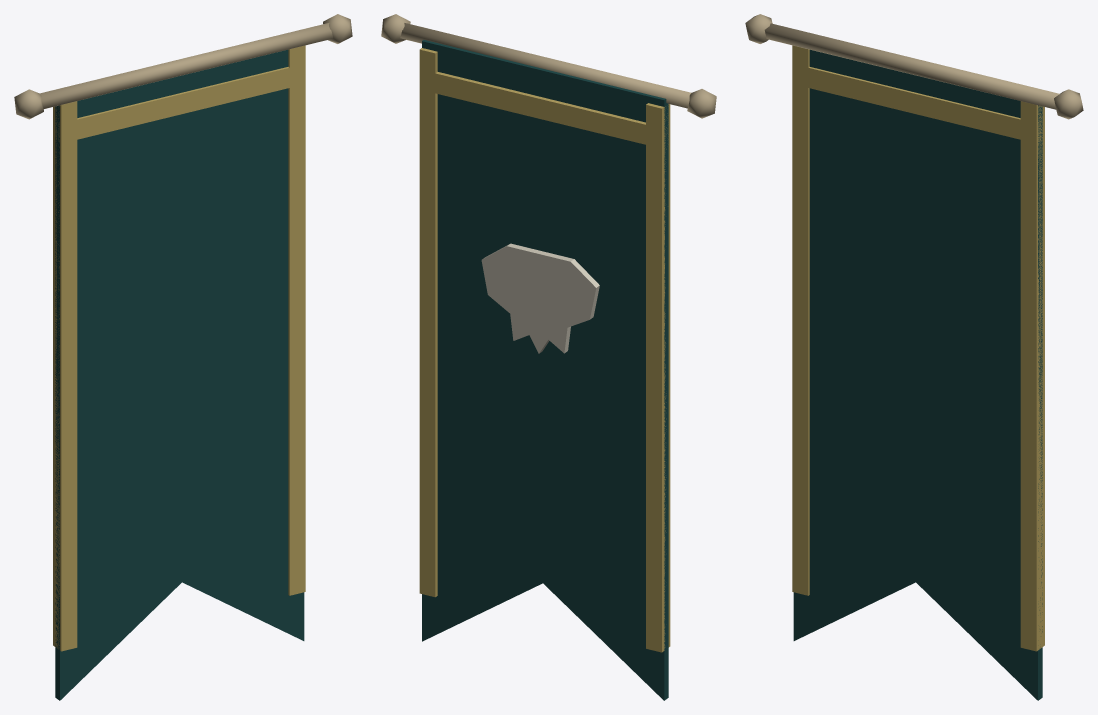
The model's file is cursed_skull_banner_v0.glb.
3 views of the same model, side by side, from view 1: azimuth 30°, elevation 25°; view 2: azimuth 150°, elevation 25°; view 3: azimuth 330°, elevation 25° (orthographic).
Visible parts, largest first — view 1: cursed_skull_banner_v0; view 2: cursed_skull_banner_v0; view 3: cursed_skull_banner_v0.
Boxes of the visible parts, box(x1,y1,x2,y2) form: cursed_skull_banner_v0: box(14, 14, 352, 700); cursed_skull_banner_v0: box(381, 14, 716, 700); cursed_skull_banner_v0: box(745, 14, 1083, 700).
Size of the model in its own units: 1.04 by 1.84 by 0.0933.
